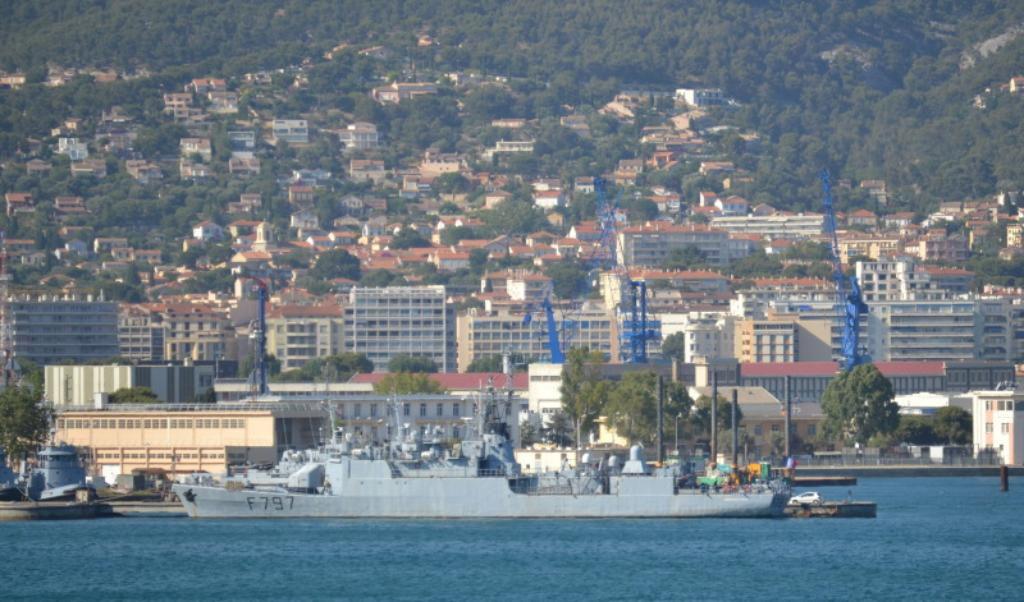Warship: (168, 363, 792, 519)
